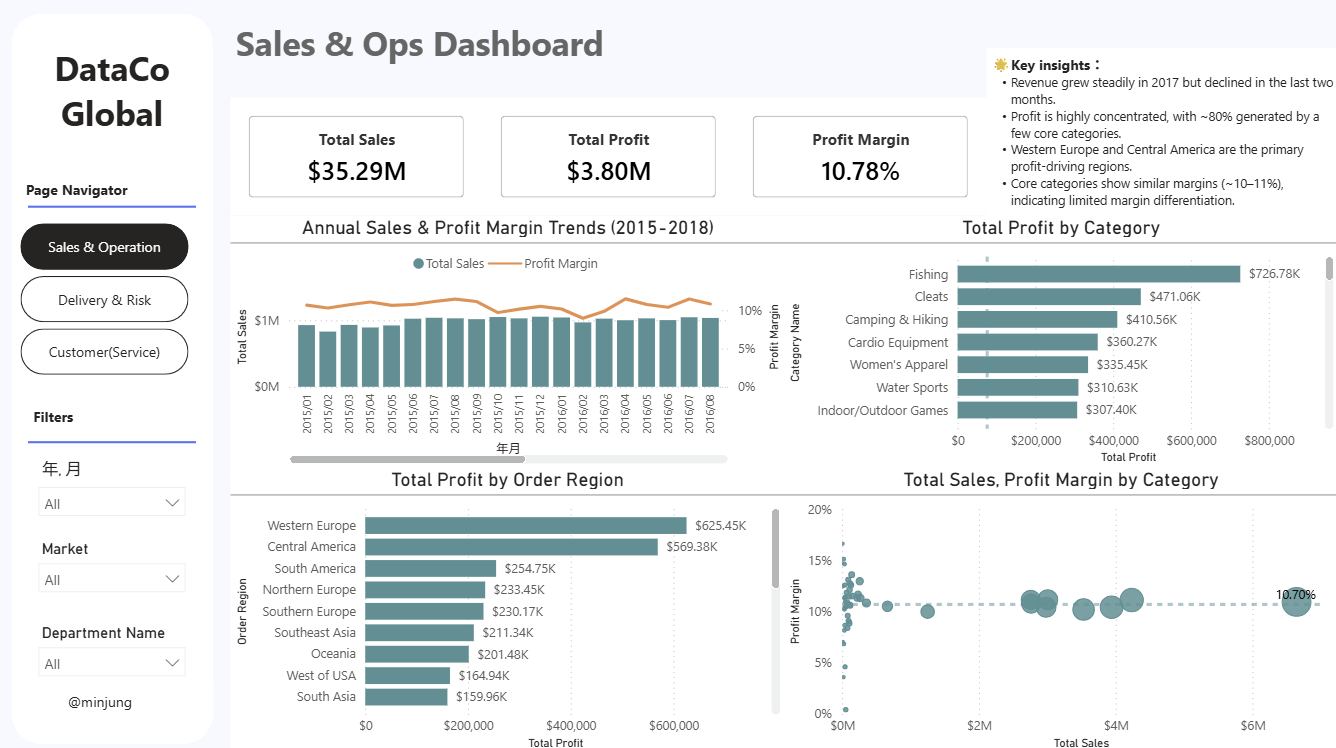

Layout of this report page (visuals, bound fields, positions):
{"tool":"powerbi","page":{"name":"Sales & Operation","canvas":[1280,720],"ordinal":0},"visuals":[{"type":"shape","box":[16,16,192,696],"z":0},{"type":"lineClusteredColumnComboChart","title":"Annual Sales & Profit Margin Trends (2015-2018)","fields":{"Y2":["modified data.利潤率"],"Y":["modified data.總銷售額"],"Category":["modified data.年","modified data.年月"]},"box":[224,208,528,240],"z":1000},{"type":"clusteredBarChart","title":"Total Profit by Category ","fields":{"Category":["modified data.Category Name","modified data.Product Name"],"Y":["modified data.Total Profit"]},"box":[752,208,528,240],"z":2000},{"type":"clusteredBarChart","title":"Total Profit by Order Region","fields":{"Category":["modified data.Order Region","modified data.Order Country"],"Y":["modified data.Total Profit"]},"box":[224,448,528,272],"z":3000},{"type":"textbox","box":[24,168,128,32],"z":4000},{"type":"shape","box":[32,176,160,48],"z":5000},{"type":"pageNavigator","box":[24,216,160,144],"z":6000},{"type":"shape","box":[32,400,160,48],"z":7000},{"type":"textbox","box":[32,384,128,32],"z":8000},{"type":"textbox","box":[32,40,160,104],"z":9000},{"type":"textbox","box":[64,656,144,32],"z":10000},{"type":"cardVisual","fields":{"Data":["modified data.Profit Margin"]},"box":[704,96,240,112],"z":11000},{"type":"cardVisual","fields":{"Data":["modified data.Total Profit"]},"box":[464,96,240,112],"z":12000},{"type":"slicer","fields":{"Values":["modified data.Market"]},"box":[32,512,160,64],"z":13000},{"type":"textbox","box":[224,16,464,64],"z":14000},{"type":"slicer","fields":{"Values":["Date Table.Date.變化.日期階層.年","Date Table.Date.變化.日期階層.月"]},"box":[32,432,160,80],"z":15000},{"type":"slicer","fields":{"Values":["modified data.Department Name"]},"box":[32,592,160,64],"z":16000},{"type":"cardVisual","fields":{"Data":["modified data.Total Sales"]},"box":[224,96,240,112],"z":17000},{"type":"textbox","box":[944,48,336,160],"z":18000},{"type":"scatterChart","title":"Total Sales, Profit Margin by Category","fields":{"Category":["modified data.Category Name"],"Size":["modified data.Total Sales"],"X":["modified data.Total Sales"],"Y":["modified data.Profit Margin"]},"box":[752,448,528,272],"z":19000}]}

Visuals, with their boxes on the page's 1280x720 design canvas (x1, y1, x2, y2). These are canvas units, not pixel positions in the 1336x748 screenshot, which may show the page scaled, cropped or inside an application window:
shape: (x1=16, y1=16, x2=208, y2=712)
"Annual Sales & Profit Margin Trends (2015-2018)" lineClusteredColumnComboChart: (x1=224, y1=208, x2=752, y2=448)
"Total Profit by Category " clusteredBarChart: (x1=752, y1=208, x2=1280, y2=448)
"Total Profit by Order Region" clusteredBarChart: (x1=224, y1=448, x2=752, y2=720)
textbox: (x1=24, y1=168, x2=152, y2=200)
shape: (x1=32, y1=176, x2=192, y2=224)
pageNavigator: (x1=24, y1=216, x2=184, y2=360)
shape: (x1=32, y1=400, x2=192, y2=448)
textbox: (x1=32, y1=384, x2=160, y2=416)
textbox: (x1=32, y1=40, x2=192, y2=144)
textbox: (x1=64, y1=656, x2=208, y2=688)
cardVisual - modified data.Profit Margin: (x1=704, y1=96, x2=944, y2=208)
cardVisual - modified data.Total Profit: (x1=464, y1=96, x2=704, y2=208)
slicer - modified data.Market: (x1=32, y1=512, x2=192, y2=576)
textbox: (x1=224, y1=16, x2=688, y2=80)
slicer - Date Table.Date.變化.日期階層.年 x Date Table.Date.變化.日期階層.月: (x1=32, y1=432, x2=192, y2=512)
slicer - modified data.Department Name: (x1=32, y1=592, x2=192, y2=656)
cardVisual - modified data.Total Sales: (x1=224, y1=96, x2=464, y2=208)
textbox: (x1=944, y1=48, x2=1280, y2=208)
"Total Sales, Profit Margin by Category" scatterChart: (x1=752, y1=448, x2=1280, y2=720)
